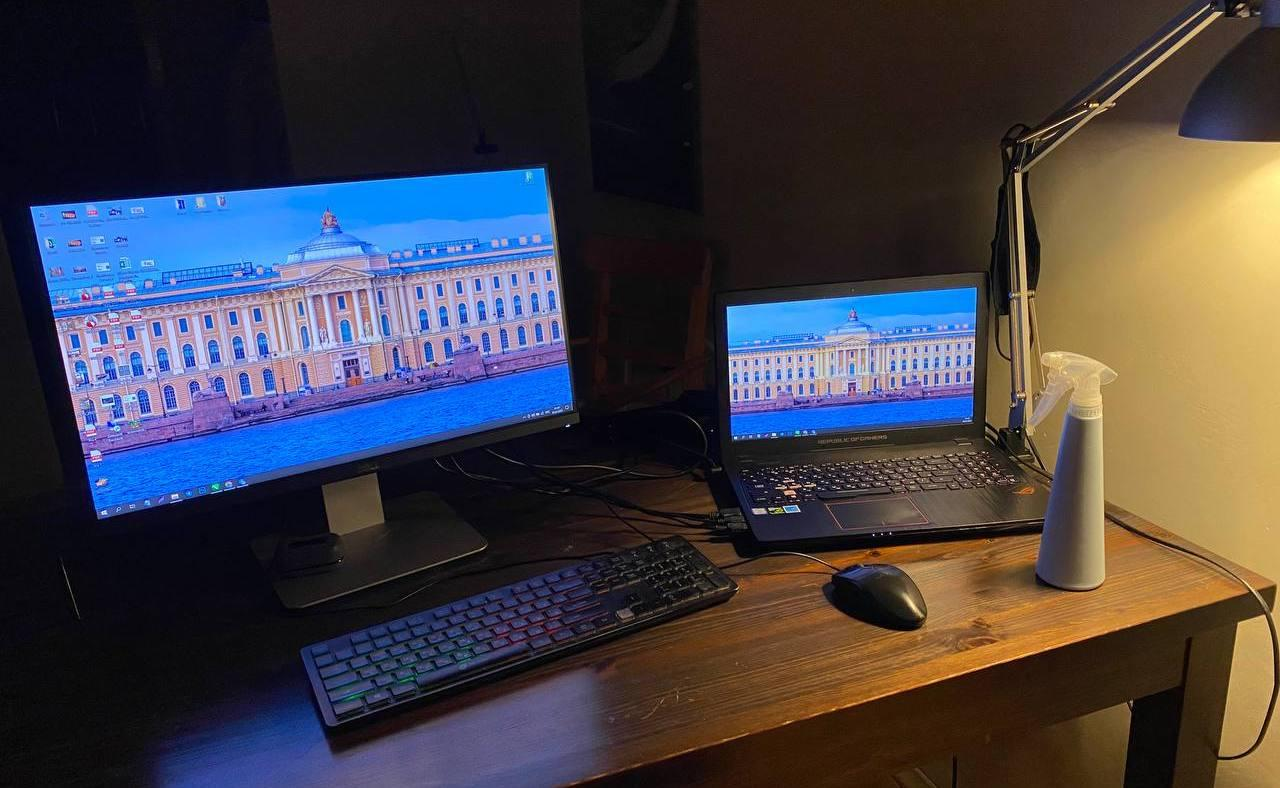monitor: (0, 149, 586, 556), (706, 265, 991, 465)
